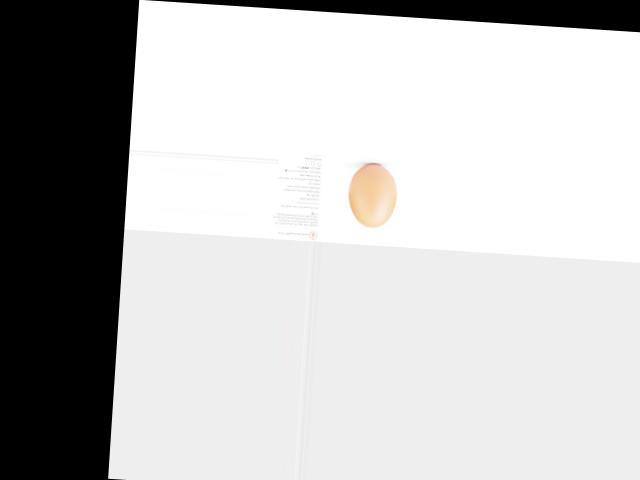egg: (346, 162, 398, 228)
